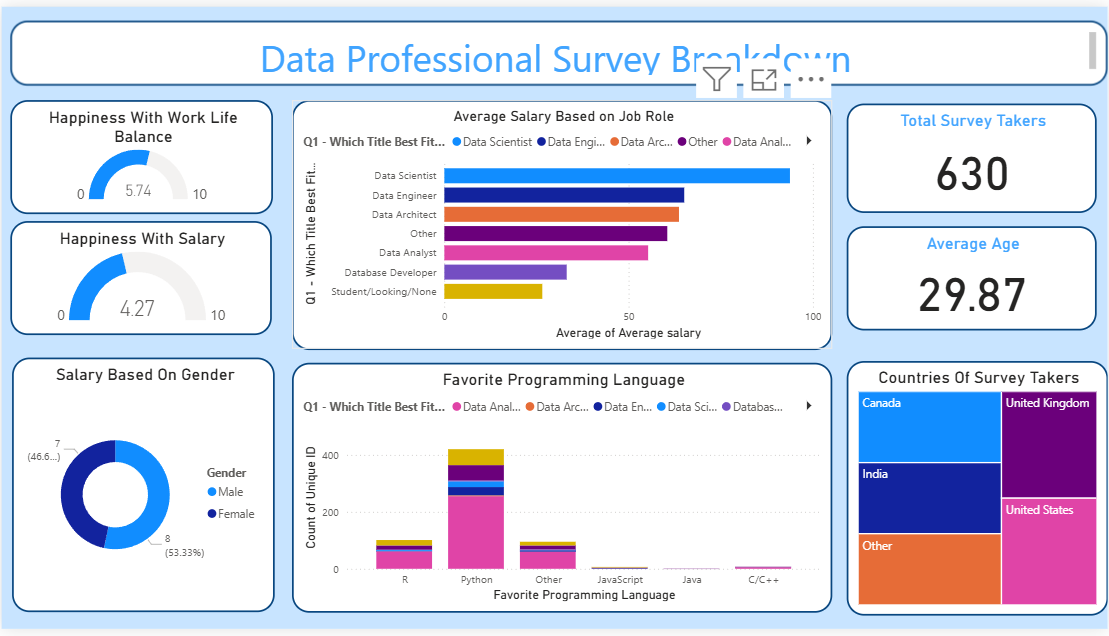

This screenshot's page, from the dashboard's own definition file:
{"tool":"powerbi","page":{"name":"Page 1","canvas":[1280,720],"ordinal":0},"visuals":[{"type":"textbox","box":[9.4,15.1,1269.9,75.6],"z":0},{"type":"card","title":"Total Survey Takers","fields":{"Values":["Count(Data Professional Survey.Unique ID)"]},"box":[977,111.5,289.1,126.6],"z":1000},{"type":"card","title":"Average Age","fields":{"Values":["Avg(Data Professional Survey.Q10 - Current Age)"]},"box":[977,253.2,289.1,120.9],"z":2000},{"type":"barChart","title":"Average Salary Based on Job Role","fields":{"Category":["Data Professional Survey.Q1 - Which Title Best Fits your Current Role?.1"],"Y":["Avg(Data Professional Survey.Average salary)"],"Series":["Data Professional Survey.Q1 - Which Title Best Fits your Current Role?.1"]},"box":[336.4,107.7,625.5,289.1],"z":3000},{"type":"columnChart","title":"Favorite Programming Language","fields":{"Category":["Data Professional Survey.Q5 - Favorite Programming Language.1"],"Y":["CountNonNull(Data Professional Survey.Unique ID)"],"Series":["Data Professional Survey.Q1 - Which Title Best Fits your Current Role?.1"]},"box":[336.4,412,625.5,289.1],"z":4000},{"type":"treemap","title":"Countries Of Survey Takers","fields":{"Group":["Data Professional Survey.Q11 - Which Country do you live in?.1"],"Values":["Count(Data Professional Survey.Q11 - Which Country do you live in?.1)"]},"box":[977,410.1,302.4,294.8],"z":5000},{"type":"gauge","title":"Happiness With Work Life Balance","fields":{"Y":["Avg(Data Professional Survey.Q6 - How Happy are you in your Current Position with the following? (Work/Life Balance))"],"MinValue":["Min(Data Professional Survey.Q6 - How Happy are you in your Current Position with the following? (Work/Life Balance))"],"MaxValue":["Max(Data Professional Survey.Q6 - How Happy are you in your Current Position with the following? (Work/Life Balance))"]},"box":[9.4,107.7,304.3,132.3],"z":6000},{"type":"gauge","title":"Happiness With Salary","fields":{"Y":["Avg(Data Professional Survey.Q6 - How Happy are you in your Current Position with the following? (Salary))"],"MinValue":["Min(Data Professional Survey.Q6 - How Happy are you in your Current Position with the following? (Salary))1"],"MaxValue":["Max(Data Professional Survey.Q6 - How Happy are you in your Current Position with the following? (Salary))2"]},"box":[9.4,247.6,302.4,132.3],"z":7000},{"type":"donutChart","title":"Salary Based On Gender","fields":{"Category":["Data Professional Survey.Q9 - Male/Female?"],"Y":["Count(Data Professional Survey.Q3 - Current Yearly Salary (in USD))"]},"box":[11.3,406.3,304.3,294.8],"z":8000}]}

Visuals, with their boxes in screenshot pixels (x1, y1, x2, y2):
textbox: crop(11, 19, 1096, 83)
"Total Survey Takers" card: crop(838, 101, 1085, 209)
"Average Age" card: crop(838, 222, 1085, 325)
"Average Salary Based on Job Role" barChart: crop(290, 98, 825, 345)
"Favorite Programming Language" columnChart: crop(290, 358, 825, 605)
"Countries Of Survey Takers" treemap: crop(838, 356, 1096, 608)
"Happiness With Work Life Balance" gauge: crop(11, 98, 271, 211)
"Happiness With Salary" gauge: crop(11, 217, 269, 330)
"Salary Based On Gender" donutChart: crop(13, 353, 273, 605)
